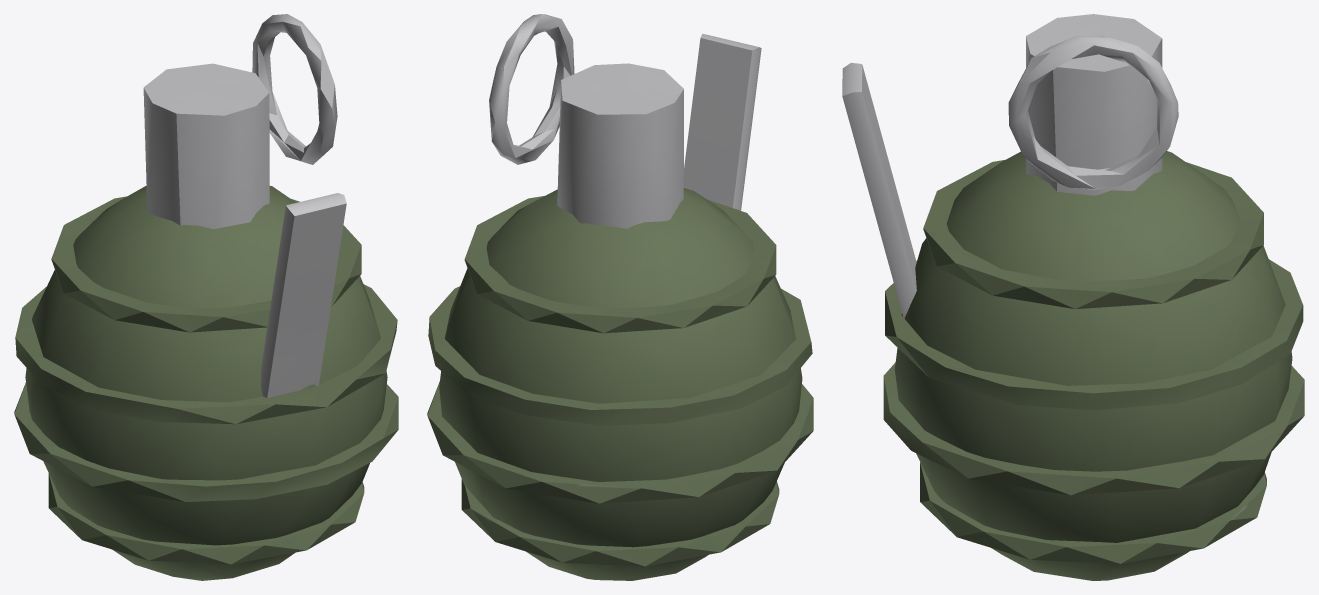
The model's file is SM_FragGrenade_LOD1.fbx.
The picture shows the model from 3 angles, left to right: view 1: azimuth 30°, elevation 25°; view 2: azimuth 150°, elevation 25°; view 3: azimuth 270°, elevation 25°; orthographic projection. The views are drawn at different scales.
Parts seen in each view (by area): view 1: SM_FragGrenade_LOD1; view 2: SM_FragGrenade_LOD1; view 3: SM_FragGrenade_LOD1.
Part boxes in pixels (x1,y1,x2,y2): SM_FragGrenade_LOD1: (14,14,398,580); SM_FragGrenade_LOD1: (427,14,813,580); SM_FragGrenade_LOD1: (842,14,1304,580).
Bounding box in the file's own units: 0.0679 × 0.1023 × 0.0744.
1 material, 1 textured.
